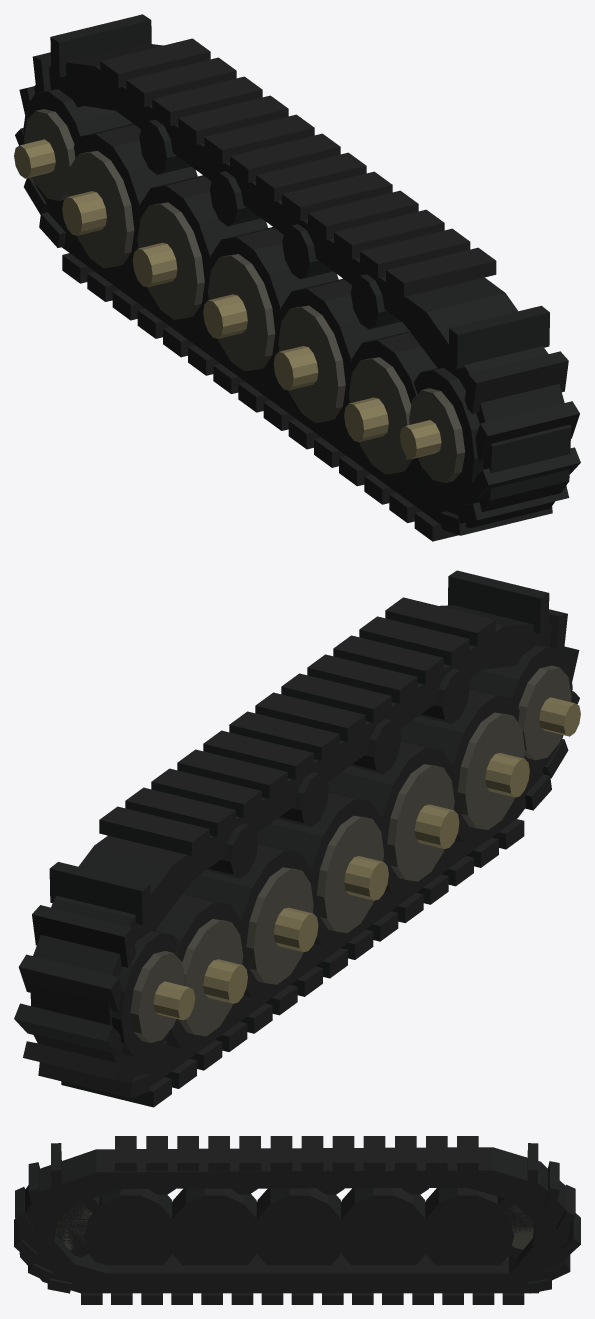
File: Bastion_LeftTrack.obj
3 views of the same model, one above another, from view 1: azimuth 30°, elevation 25°; view 2: azimuth 150°, elevation 25°; view 3: azimuth 270°, elevation 25° (orthographic). The views are drawn at different scales.
Visible parts, largest first — view 1: Bastion_LeftTrack; view 2: Bastion_LeftTrack; view 3: Bastion_LeftTrack.
Boxes of the visible parts, x1,y1,x2,y2 form: Bastion_LeftTrack: [14, 14, 580, 541]; Bastion_LeftTrack: [14, 570, 580, 1107]; Bastion_LeftTrack: [14, 1136, 580, 1304].
Bounding box in the file's own units: 0.785 × 1.38 × 4.98.
1 material, 1 textured.
